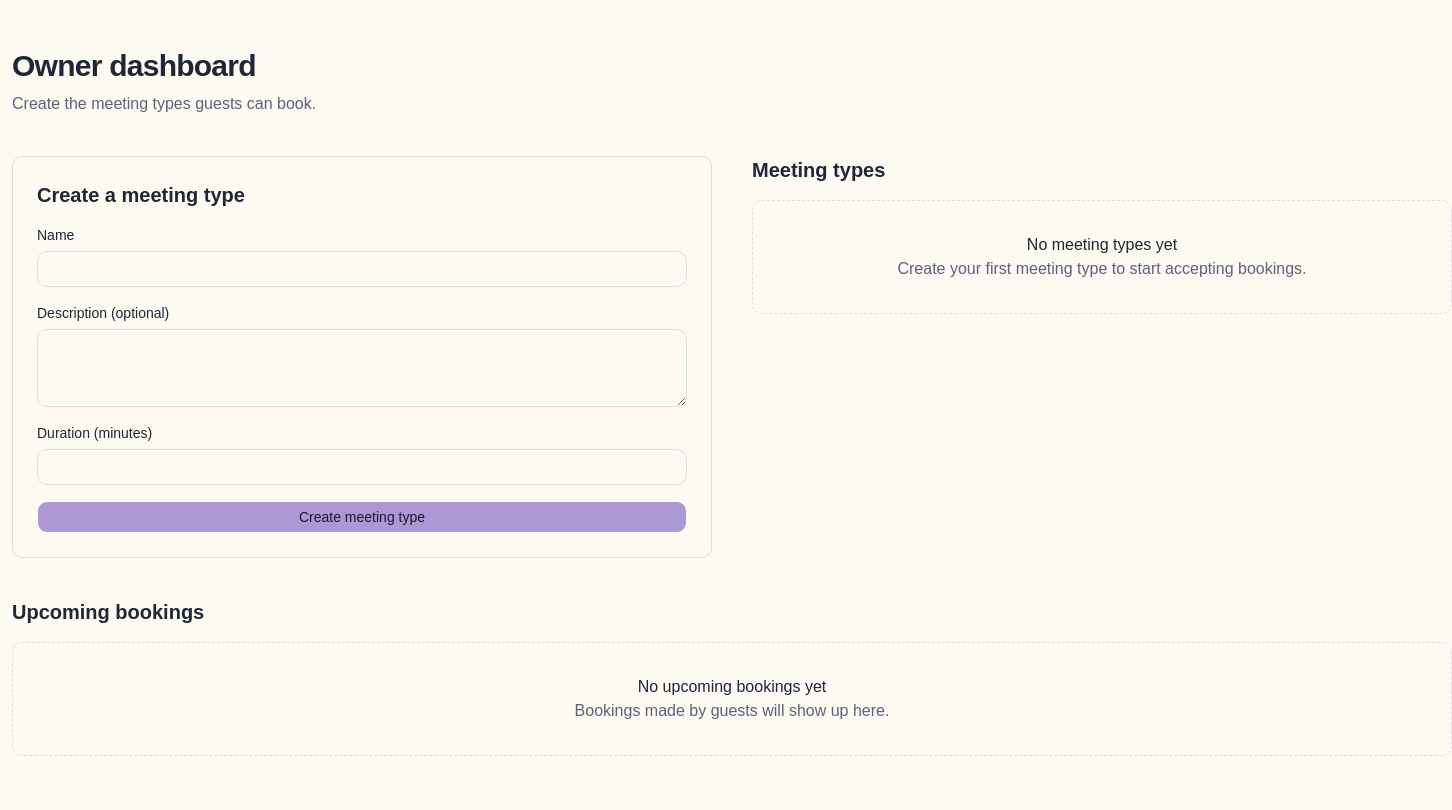
Scenario: OwnerDashboardPage › renders validation errors next to the matching fields
Check: the heading "No meeting types yet" is shown, box [1027,236,1177,253]
Click the button "Create meeting type" at (362, 517), box [37,501,687,533]
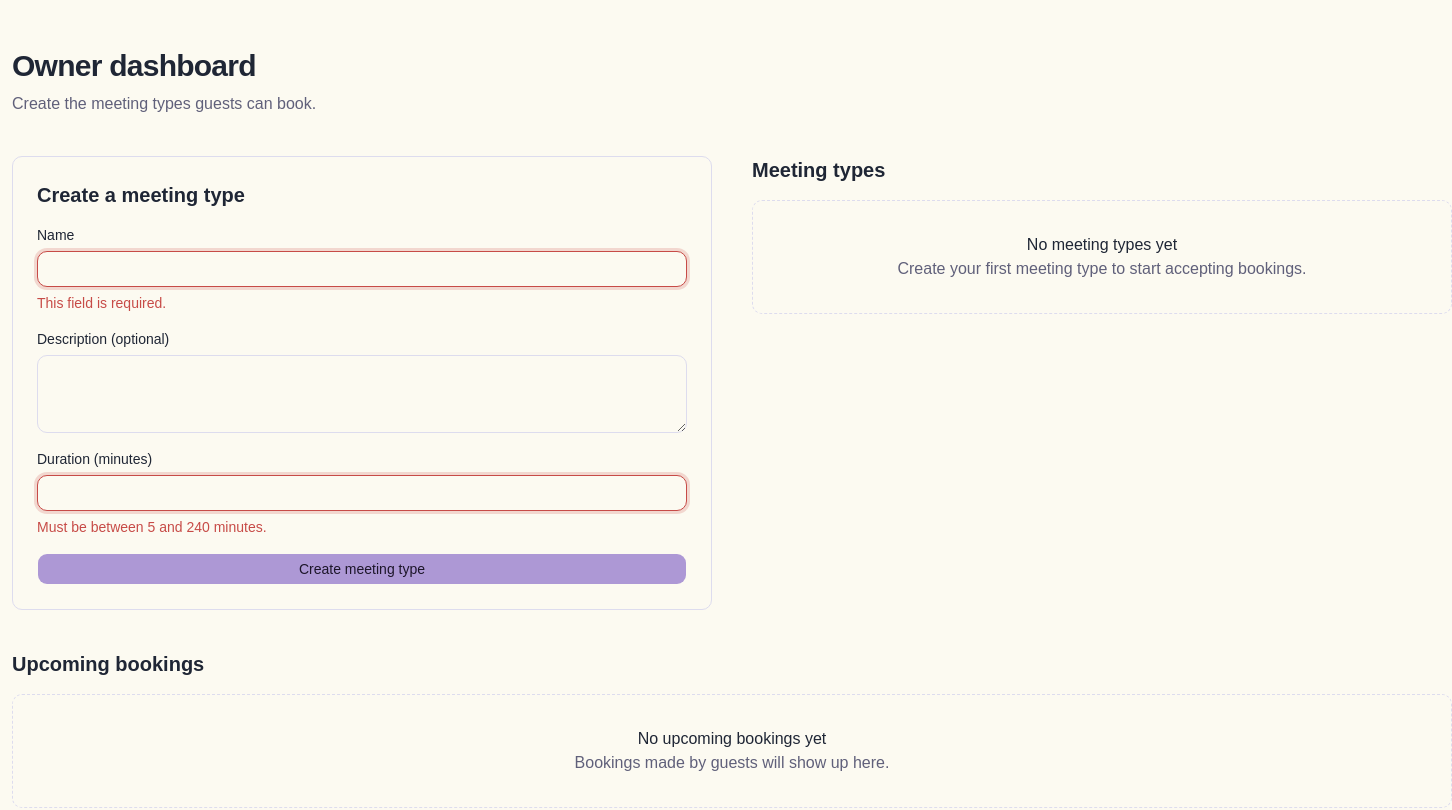
Check: the text "This field is required." is shown, box [37,295,166,311]
Check: the text "Must be between 5 and 240 minutes." is shown, box [37,519,267,535]
